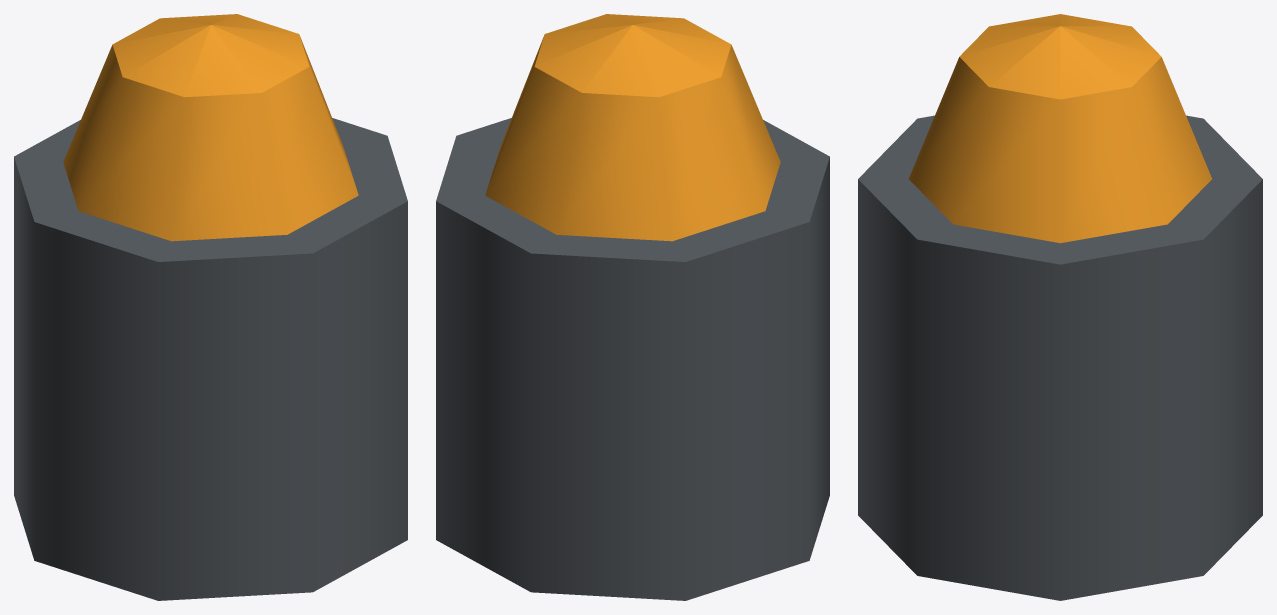
The model's file is ec2_beacon.obj.
3 renders of one model, left to right at view 1: azimuth 30°, elevation 25°; view 2: azimuth 150°, elevation 25°; view 3: azimuth 270°, elevation 25°, orthographic.
Parts seen in each view (by area): view 1: ec2_beacon; view 2: ec2_beacon; view 3: ec2_beacon.
Boxes of the visible parts, box(x1,y1,x2,y2) form: ec2_beacon: box(14, 14, 407, 600); ec2_beacon: box(436, 14, 829, 600); ec2_beacon: box(858, 14, 1262, 600).
Size of the model in its own units: 0.24 by 0.32 by 0.24.
